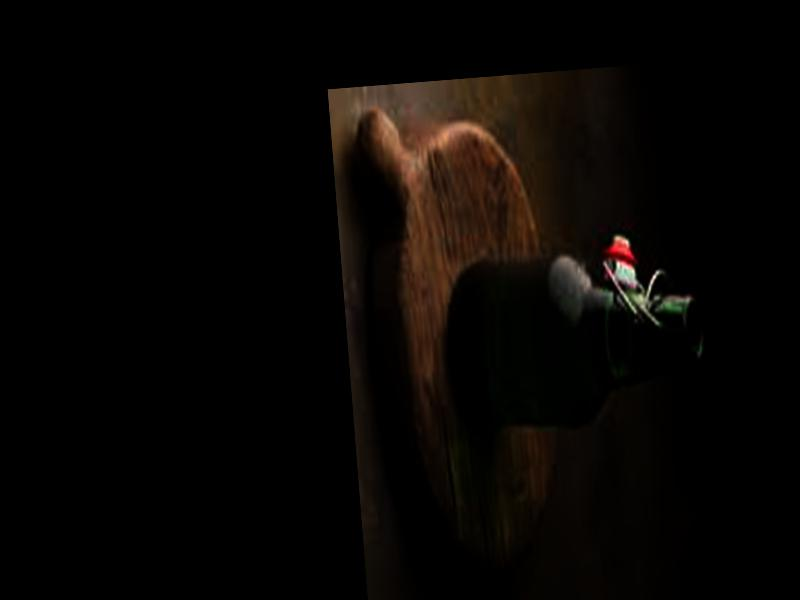Beer: (448, 245, 712, 429)
